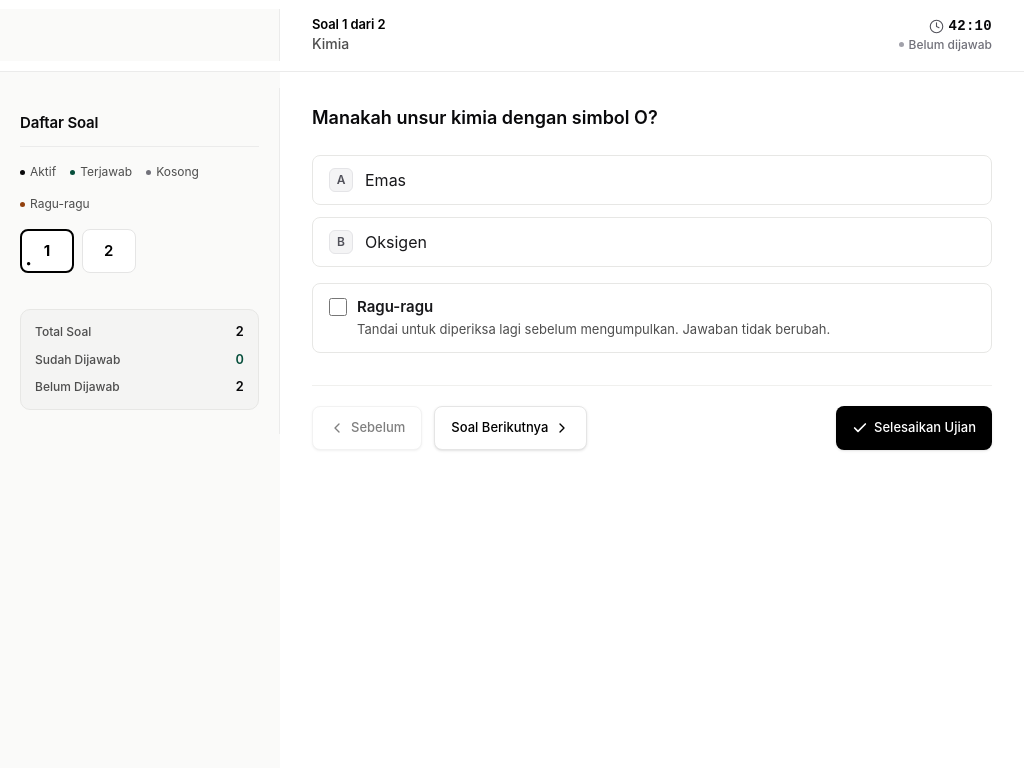
Test: the exam screen during a pause › saves an answer chosen before the pause even though it reaches the server during the pause
Click the radio button labelled "B Oksigen" at (396, 242), box x1=312 y1=216 x2=992 y2=266
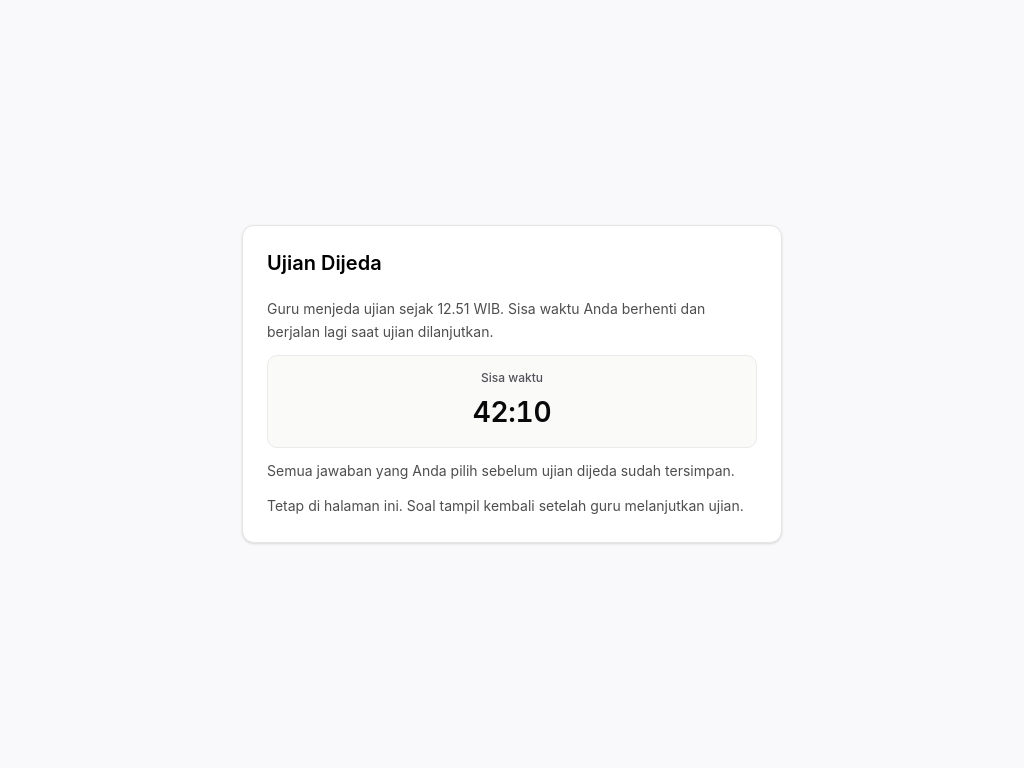
Expected: the heading "Ujian Dijeda" is shown, x1=267 y1=251 x2=382 y2=275
Expected: the text "Semua jawaban yang Anda pilih sebelum ujian dijeda sudah tersimpan." is shown, x1=267 y1=460 x2=757 y2=483
